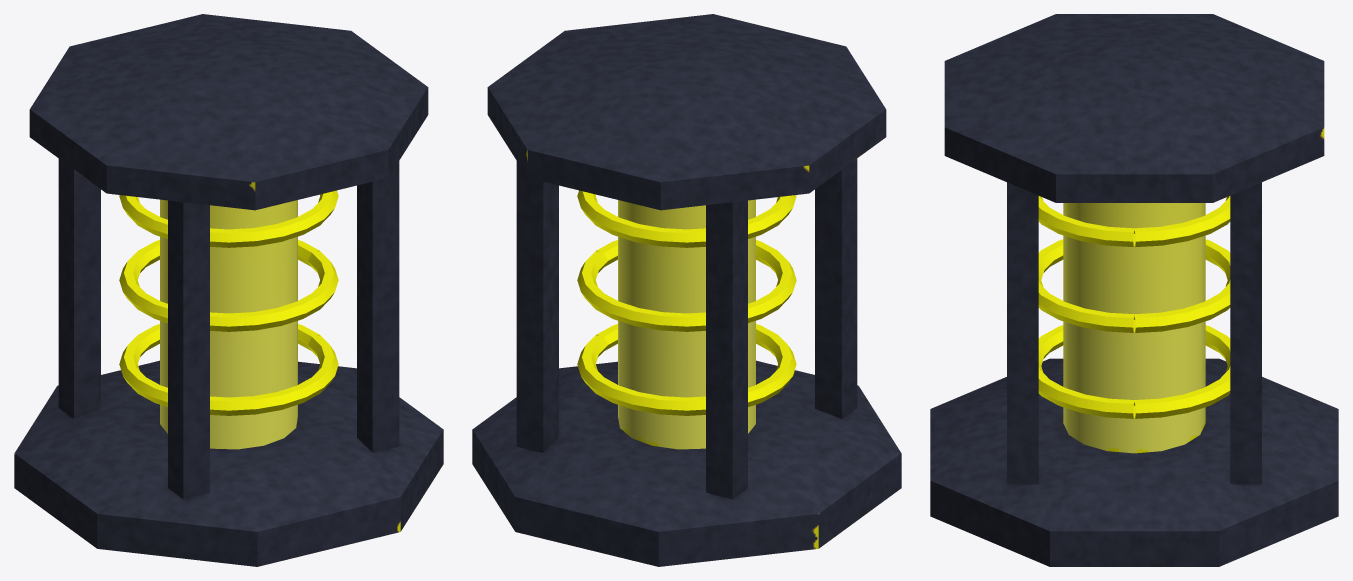
File: fusion_cell.fbx
3 renders of one model, left to right at view 1: azimuth 30°, elevation 25°; view 2: azimuth 150°, elevation 25°; view 3: azimuth 270°, elevation 25°, orthographic. The views are drawn at different scales.
Visible parts, largest first — view 1: fusion_cell, fusion_cell_glow; view 2: fusion_cell, fusion_cell_glow; view 3: fusion_cell, fusion_cell_glow.
Part boxes in pixels (x1,y1,x2,y2): fusion_cell: [14, 14, 443, 566]; fusion_cell_glow: [119, 190, 338, 415]; fusion_cell: [472, 14, 901, 566]; fusion_cell_glow: [577, 190, 796, 415]; fusion_cell: [930, 14, 1338, 566]; fusion_cell_glow: [1038, 196, 1230, 418].
Size of the model in its own units: 517 by 580 by 517.
Materials: 1 (1 with a texture image).
